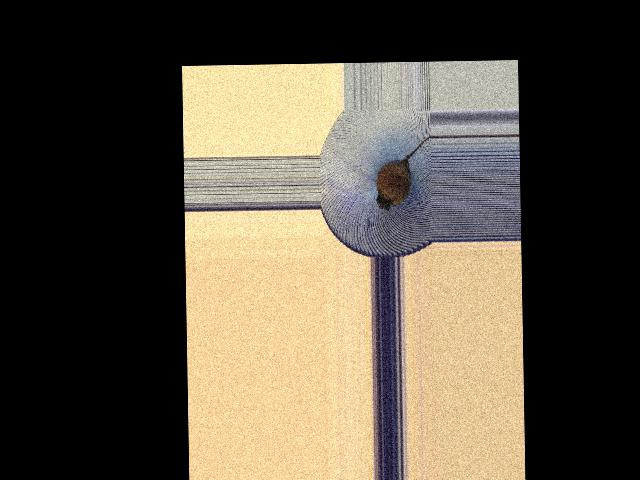beet: (375, 136, 432, 211)
